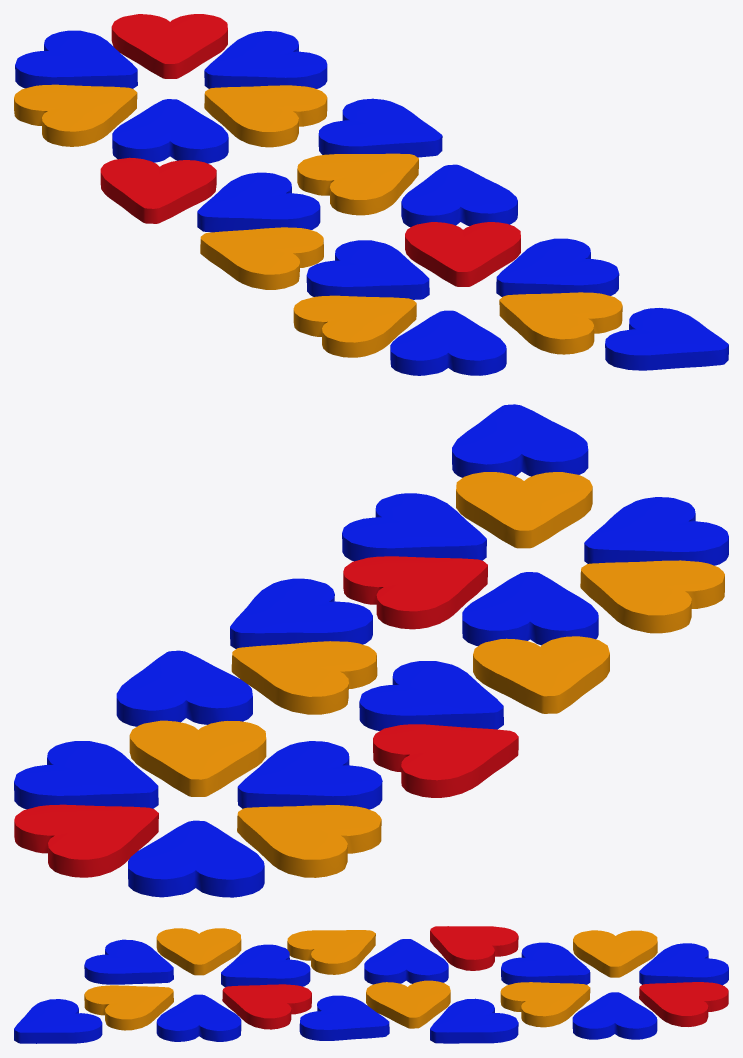
File: typeCombine003.fbx
3 views of the same model, one above another, from view 1: azimuth 30°, elevation 25°; view 2: azimuth 150°, elevation 25°; view 3: azimuth 270°, elevation 25° (orthographic). The views are drawn at different scales.
Parts seen in each view (by area): view 1: typeCombine003; view 2: typeCombine003; view 3: typeCombine003.
Part boxes in pixels (left/top/right/bottom): typeCombine003: left=14, top=14, right=728, bottom=375; typeCombine003: left=14, top=404, right=728, bottom=897; typeCombine003: left=14, top=926, right=728, bottom=1043.
Bounding box in the file's own units: 576 × 28.48 × 1633.
